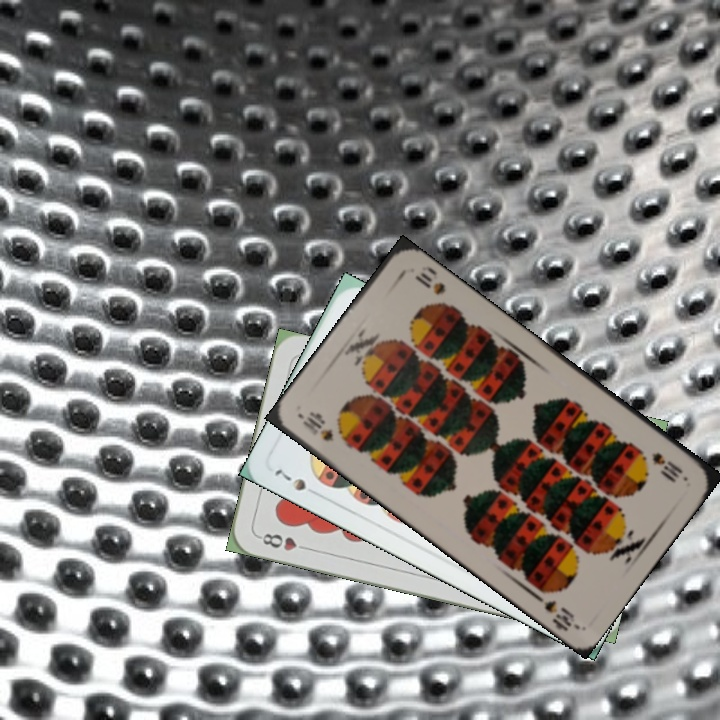H8: (254, 529, 312, 554)
S10: (297, 408, 336, 444), (647, 448, 686, 483)
S7: (270, 465, 323, 500)
